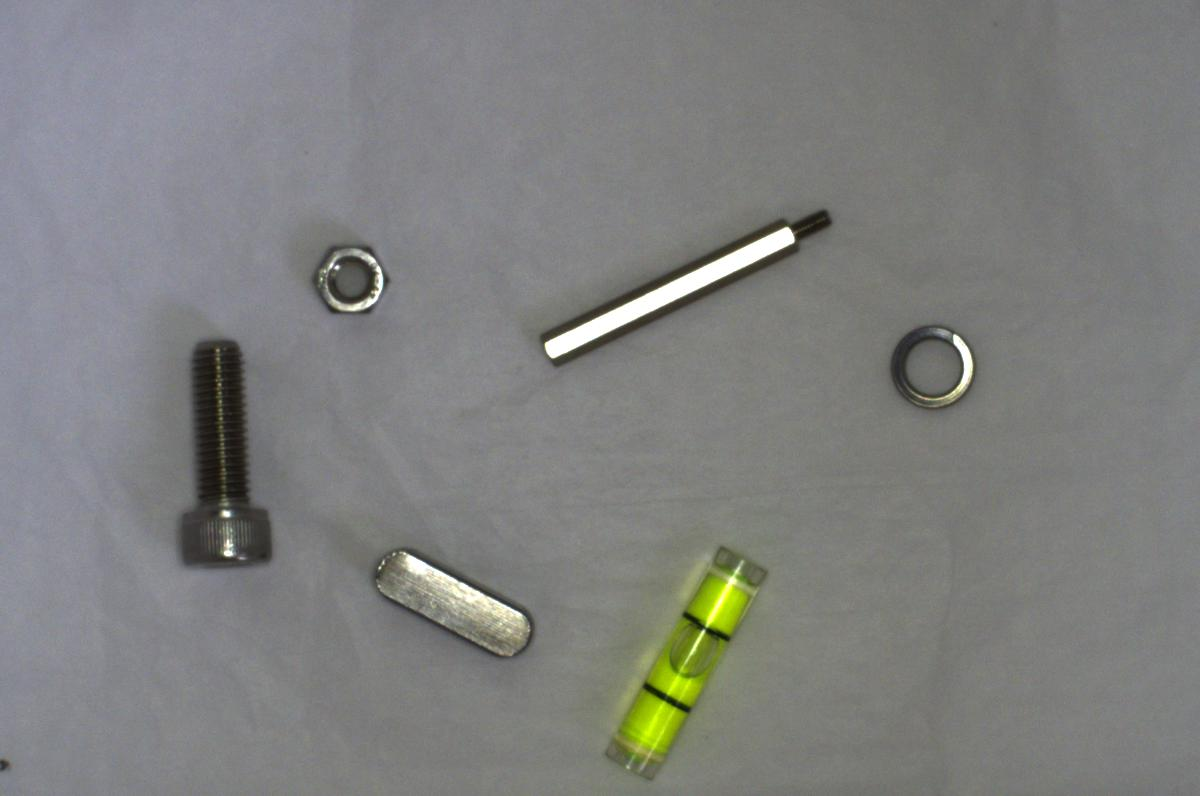Hexagon nut: (310, 234, 398, 315)
Hexagon screw: (174, 330, 277, 566)
Hexagonal steel column: (532, 203, 835, 365)
Horizontal bubble: (597, 534, 770, 782)
Keybar: (362, 541, 539, 670)
Spring washer: (882, 313, 982, 415)
